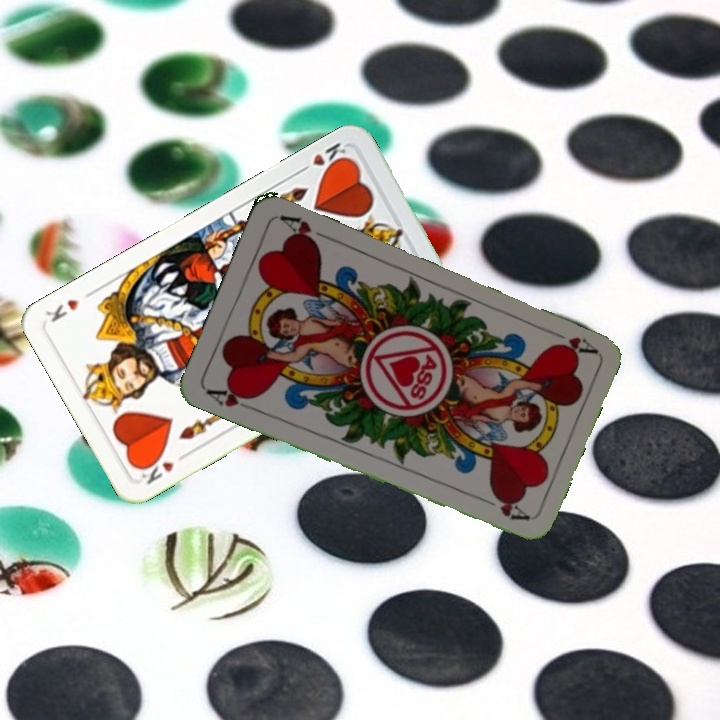HA: (202, 382, 259, 414), (543, 324, 598, 357)
HK: (294, 138, 353, 176), (135, 448, 191, 487)
